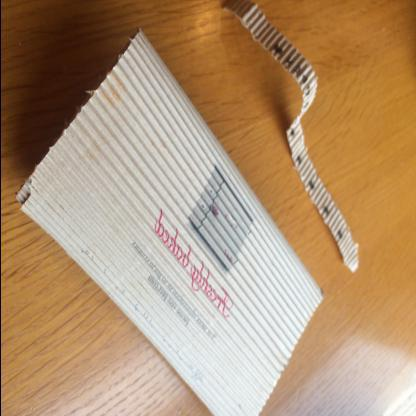karton: (15, 28, 330, 416), (219, 2, 363, 274)
